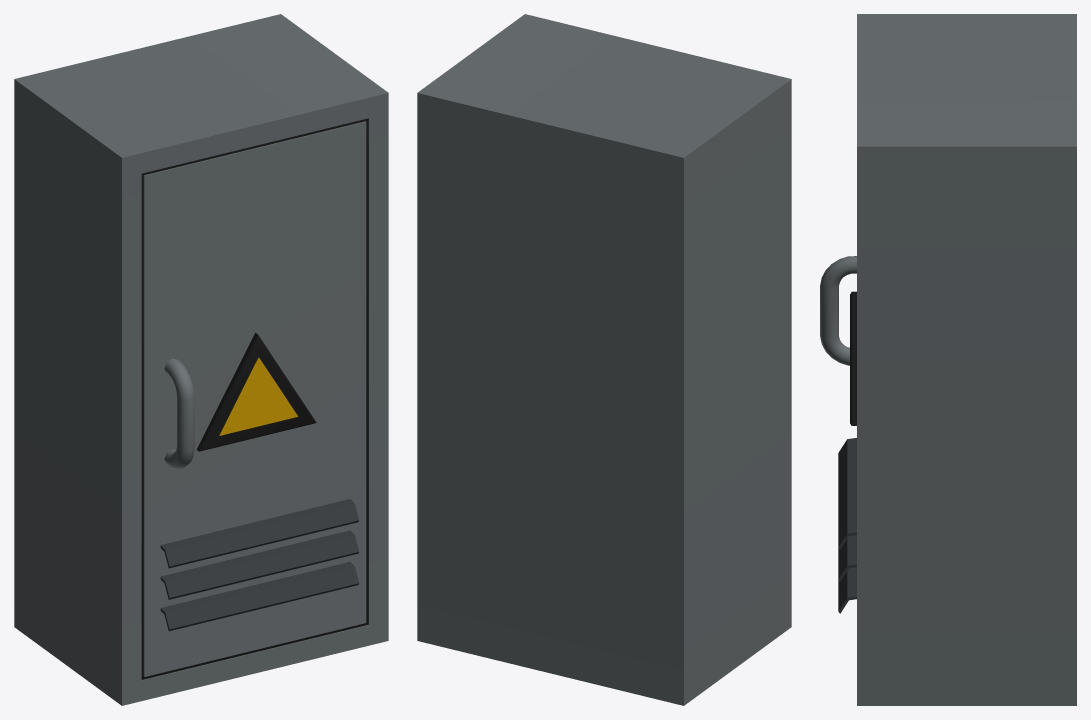
The model's file is Prop_ElectracityCabinet_01.fbx.
The picture shows the model from 3 angles, left to right: view 1: azimuth 30°, elevation 25°; view 2: azimuth 150°, elevation 25°; view 3: azimuth 270°, elevation 25°; orthographic projection. The views are drawn at different scales.
Parts seen in each view (by area): view 1: Prop_ElectracityCabinet_01; view 2: Prop_ElectracityCabinet_01; view 3: Prop_ElectracityCabinet_01.
Part boxes in pixels (x1,y1,x2,y2): Prop_ElectracityCabinet_01: [14, 14, 388, 705]; Prop_ElectracityCabinet_01: [417, 14, 791, 705]; Prop_ElectracityCabinet_01: [820, 14, 1076, 705].
Size of the model in its own units: 64 by 126 by 52.31.
Materials: 1 (1 with a texture image).
